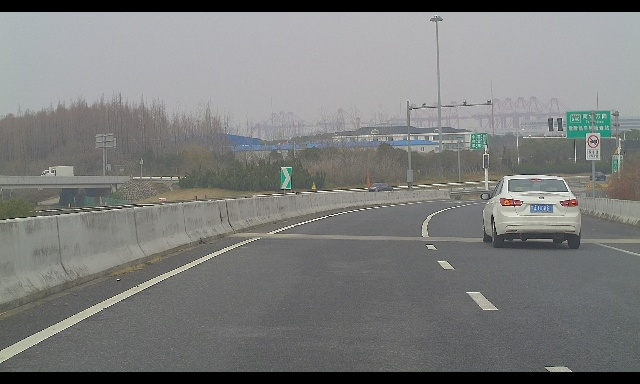car: (480, 174, 581, 248), (368, 183, 394, 193), (589, 172, 606, 180)
truck: (40, 166, 74, 181)
